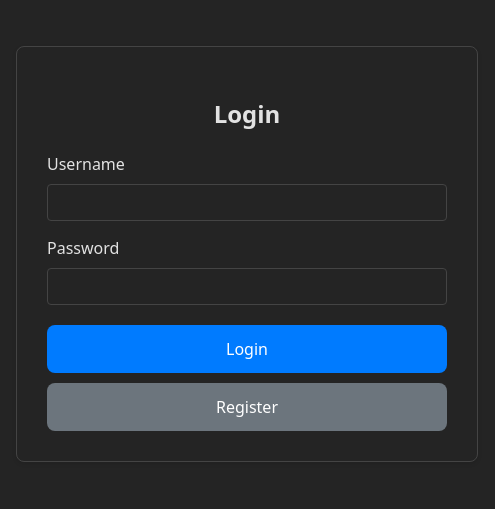
LoginPage › displays error message on failed login
Type "testuser" into the field labelled "Username" at (247, 203), box left=47, top=184, right=447, bottom=222
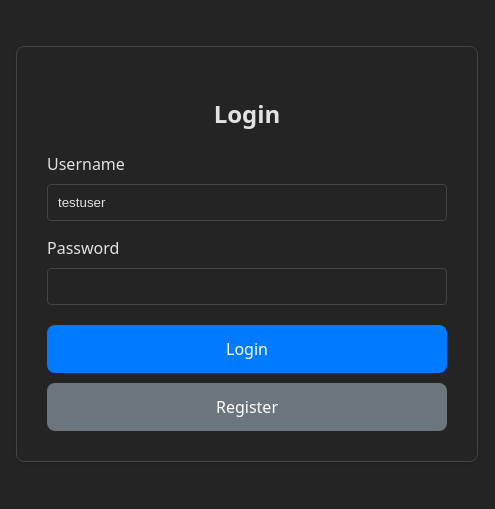
Type "wrong" into the password field labelled "Password" at (247, 287), box left=47, top=268, right=447, bottom=306
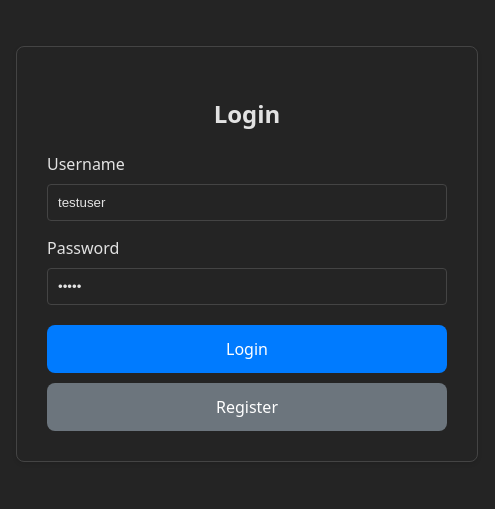
Click the button "Login" at (247, 350), box left=47, top=326, right=447, bottom=374
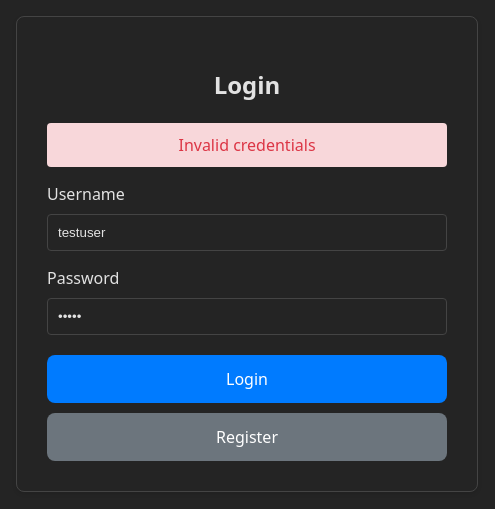
Check: the text "Invalid credentials" is shown, box left=47, top=123, right=447, bottom=167
